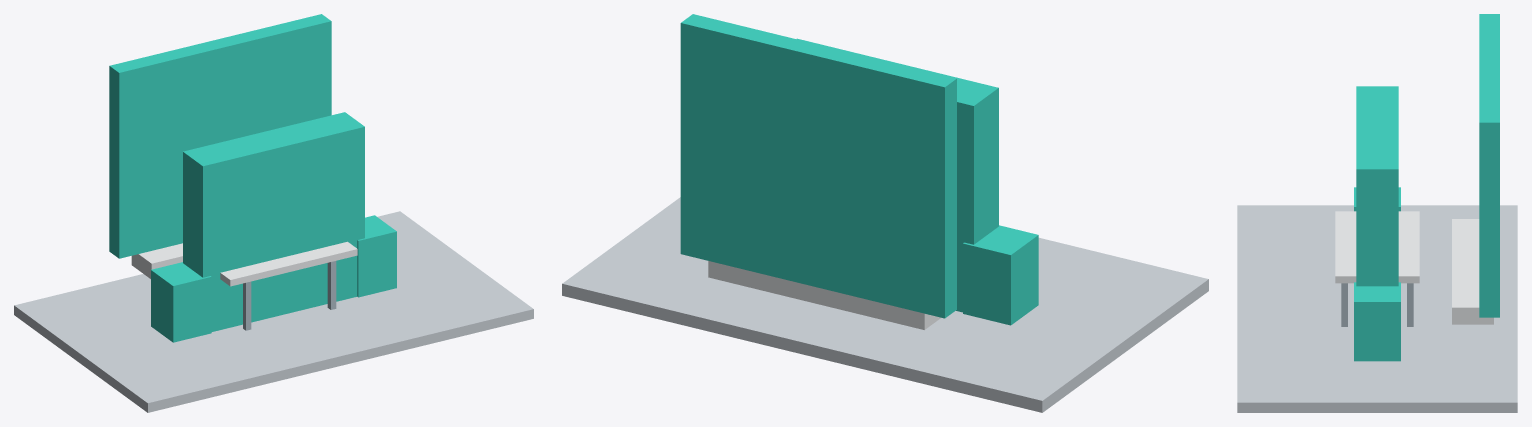
3 views of the same model, side by side, from view 1: azimuth 30°, elevation 25°; view 2: azimuth 150°, elevation 25°; view 3: azimuth 270°, elevation 25° (orthographic). The views are drawn at different scales.
Visible parts, largest first — view 1: Exhibition Booth Concept; view 2: Exhibition Booth Concept; view 3: Exhibition Booth Concept.
Boxes of the visible parts, x1,y1,x2,y2 form: Exhibition Booth Concept: (14,14,533,412); Exhibition Booth Concept: (562,14,1208,412); Exhibition Booth Concept: (1237,14,1517,412).
Size of the model in its own units: 5 by 2.9 by 3.
